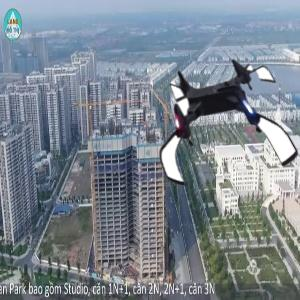drone: (145, 52, 294, 201)
